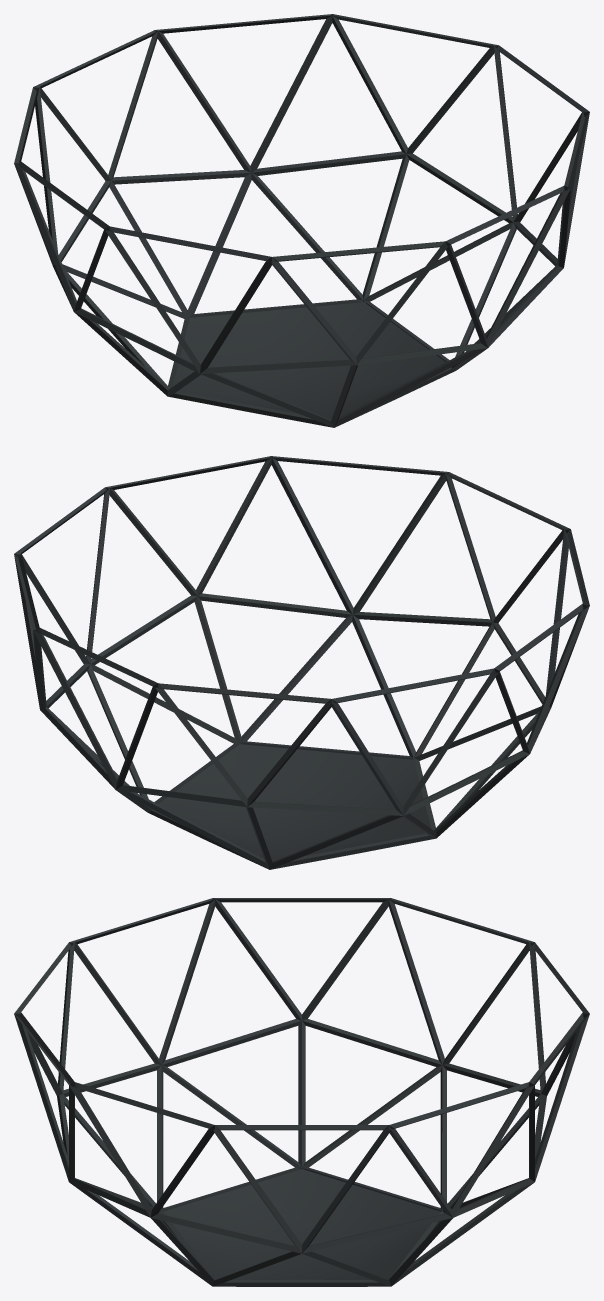
Rendered from basket.gltf.
3 renders of one model, top to bottom at view 1: azimuth 30°, elevation 25°; view 2: azimuth 150°, elevation 25°; view 3: azimuth 270°, elevation 25°, orthographic. The views are drawn at different scales.
Visible parts, largest first — view 1: Icosphere.002; view 2: Icosphere.002; view 3: Icosphere.002.
Boxes of the visible parts, x1=… form: Icosphere.002: x1=14, y1=14, x2=589, y2=427; Icosphere.002: x1=14, y1=456, x2=589, y2=869; Icosphere.002: x1=14, y1=898, x2=589, y2=1286.
Size of the model in its own units: 1.93 by 0.9282 by 2.03.
